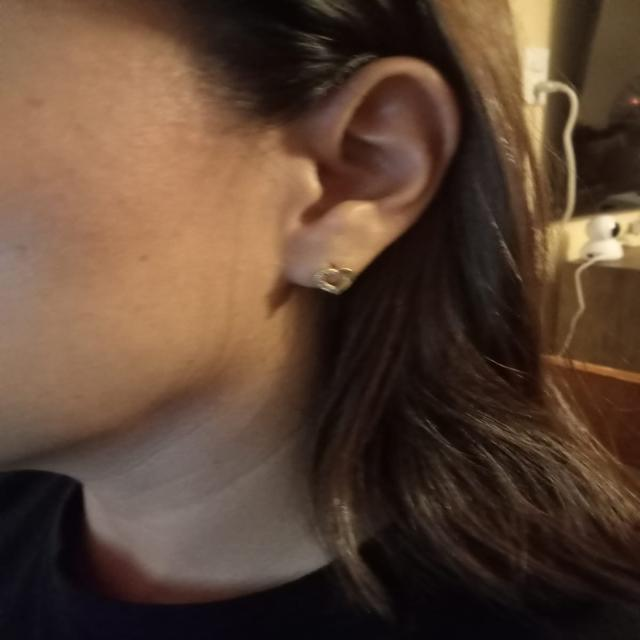ear: (282, 58, 460, 294)
